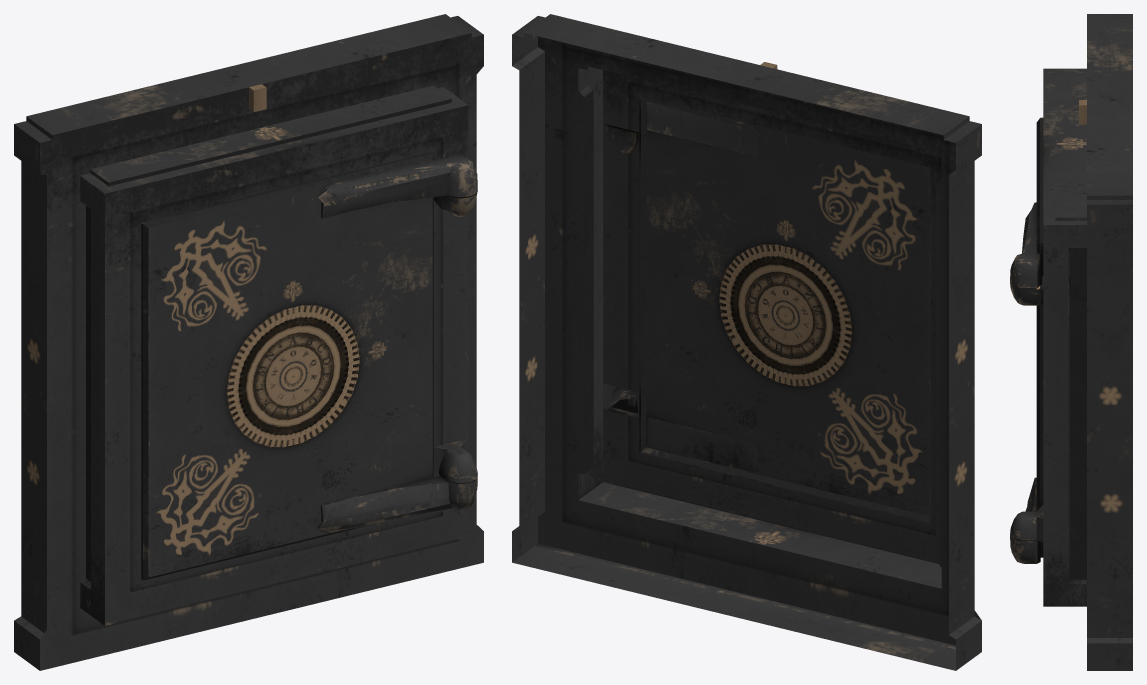
Rendered from Wall Safe 4.fbx.
3 views of the same model, side by side, from view 1: azimuth 30°, elevation 25°; view 2: azimuth 150°, elevation 25°; view 3: azimuth 270°, elevation 25° (orthographic). The views are drawn at different scales.
Parts seen in each view (by area): view 1: Cube_001; view 2: Cube_001; view 3: Cube_001.
Boxes of the visible parts, x1=… form: Cube_001: x1=14, y1=14, x2=483, y2=670; Cube_001: x1=512, y1=14, x2=981, y2=670; Cube_001: x1=1010, y1=14, x2=1132, y2=670.
Size of the model in its own units: 97.86 by 112 by 26.6.
